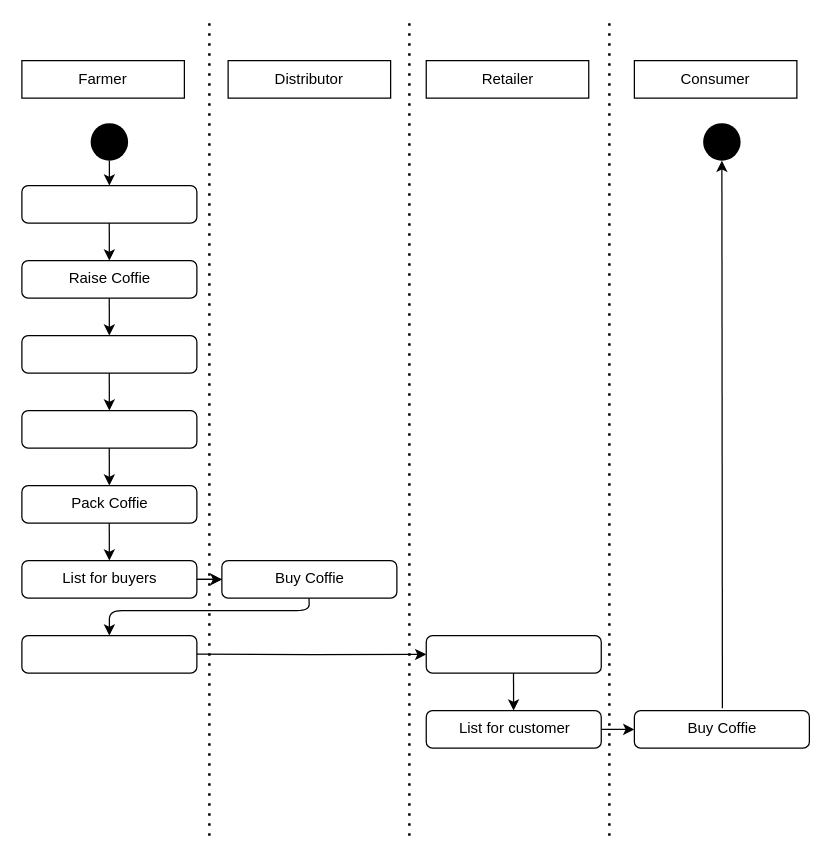
Some shapes in this 831 by 859 pixel diagram are drawn without their labels. Each missing label, with the centre of its shape:
"Harvest Coffie" goes at [109,353].
"Prepare land" goes at [109,203].
"Process Coffie" goes at [109,428].
"Receive Coffie" goes at [513,653].
"Ship Coffie" goes at [109,653].
